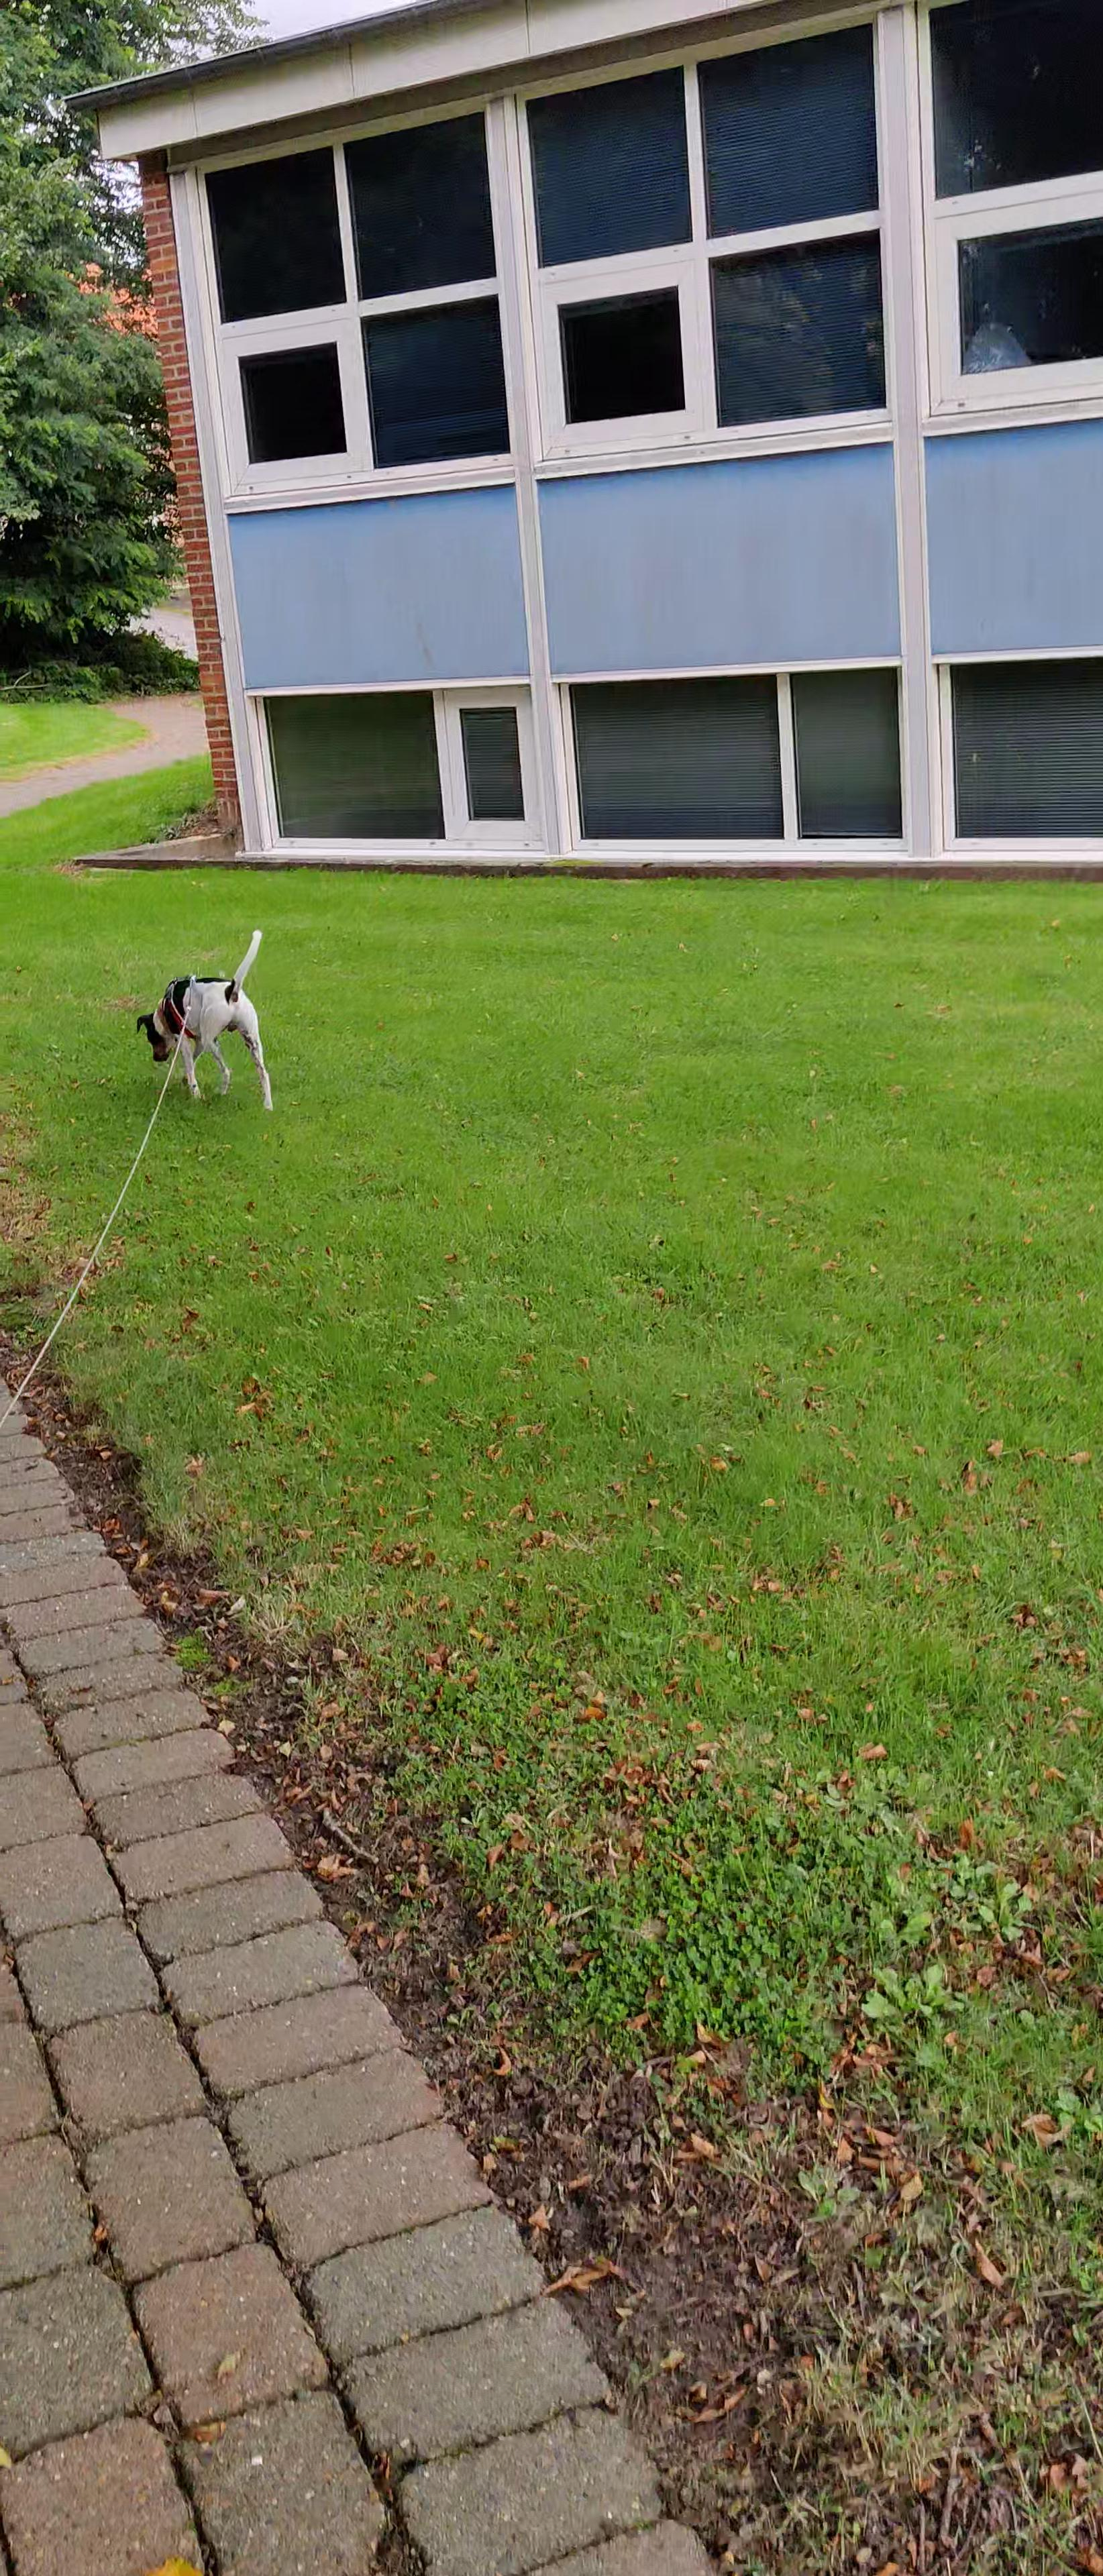Dog: (125, 920, 296, 1120)
